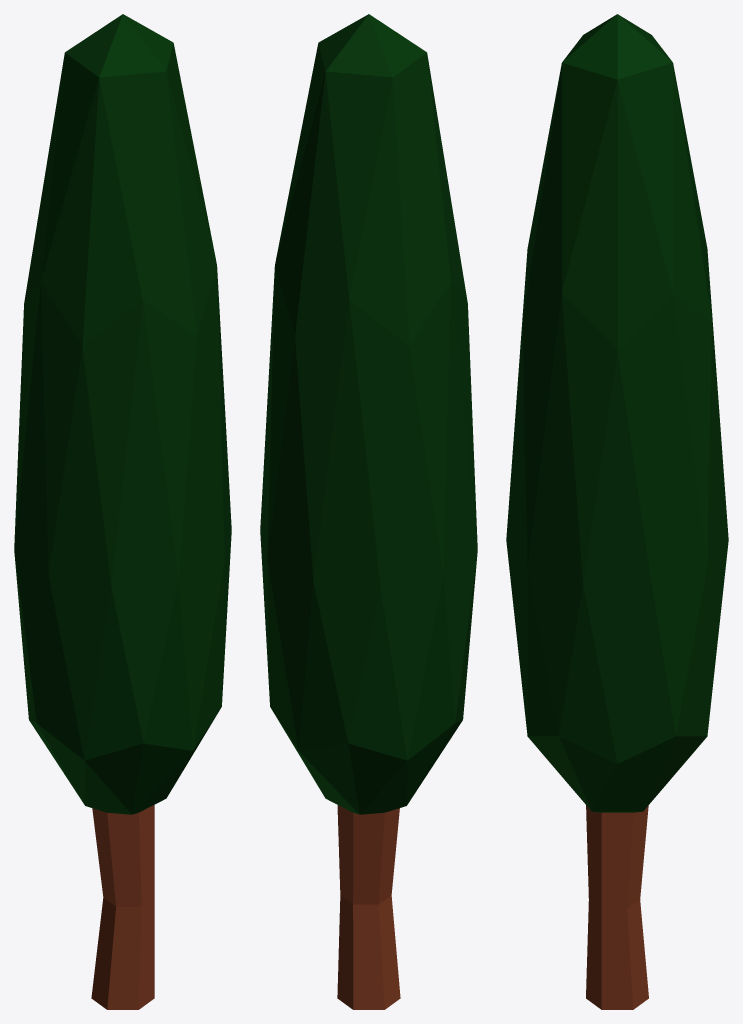
The model's file is Cyprus Tree 15m.fbx.
The picture shows the model from 3 angles, left to right: view 1: azimuth 30°, elevation 25°; view 2: azimuth 150°, elevation 25°; view 3: azimuth 270°, elevation 25°; orthographic projection.
Parts seen in each view (by area): view 1: Cyprus Tree 15; view 2: Cyprus Tree 15; view 3: Cyprus Tree 15.
Part boxes in pixels (x1,y1,x2,y2): Cyprus Tree 15: (14, 14, 231, 1009); Cyprus Tree 15: (260, 14, 477, 1009); Cyprus Tree 15: (506, 14, 728, 1009).
Bounding box in the file's own units: 292 × 1500 × 307.
